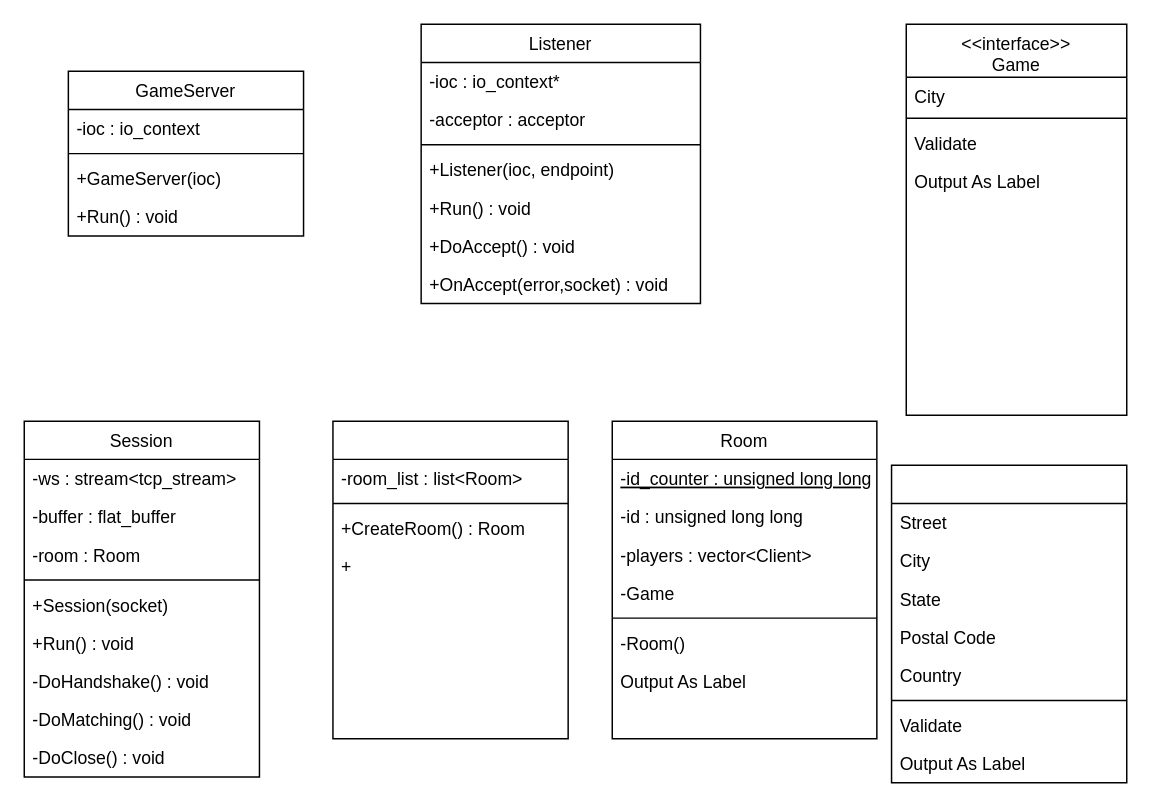
This 1151x807 diagram has some shape labels left out. Here are the shapes that lost their labels. From the top down, the box of each, then its label:
(331, 420, 568, 739): RoomManager
(890, 464, 1127, 783): Othello
